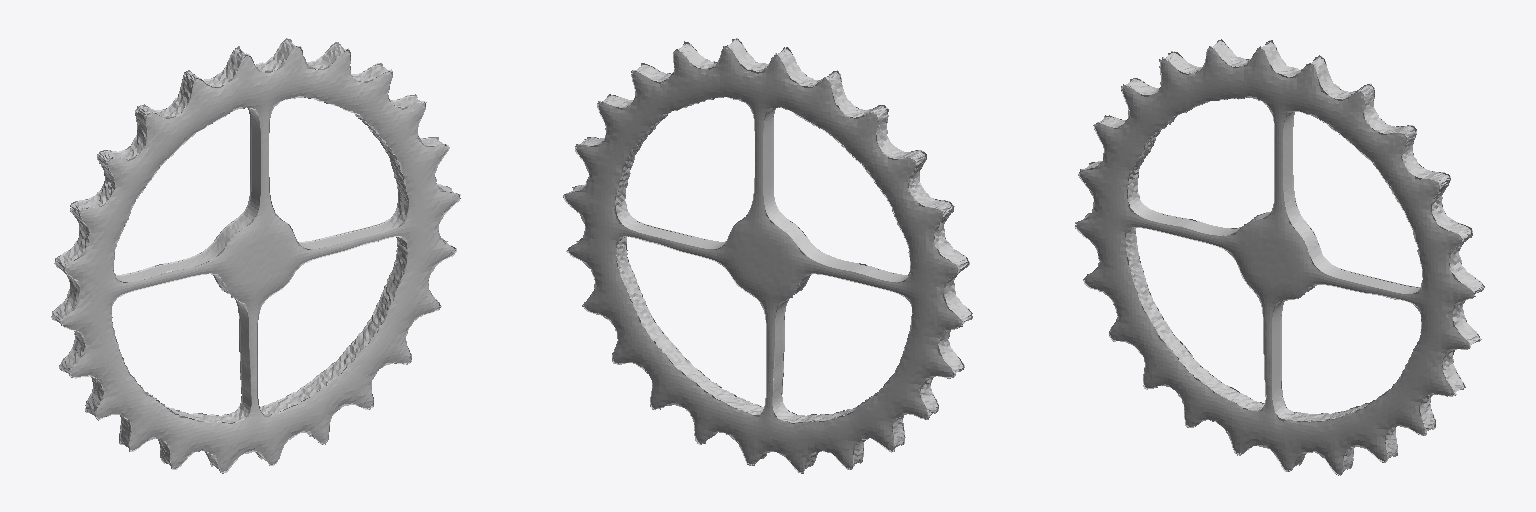
The model's file is Subtool 2.OBJ.
3 views of the same model, side by side, from view 1: azimuth 30°, elevation 25°; view 2: azimuth 150°, elevation 25°; view 3: azimuth 330°, elevation 25° (orthographic).
Parts seen in each view (by area): view 1: Group16851, Group16841; view 2: Group16851, Group16841; view 3: Group16851, Group16841.
Boxes of the visible parts, x1,y1,x2,y2 form: Group16851: [51, 38, 460, 473]; Group16841: [52, 40, 460, 472]; Group16851: [563, 38, 972, 473]; Group16841: [564, 39, 970, 472]; Group16851: [1075, 39, 1484, 475]; Group16841: [1075, 41, 1484, 474].
Bounding box in the file's own units: 1.64 × 1.64 × 0.0914.